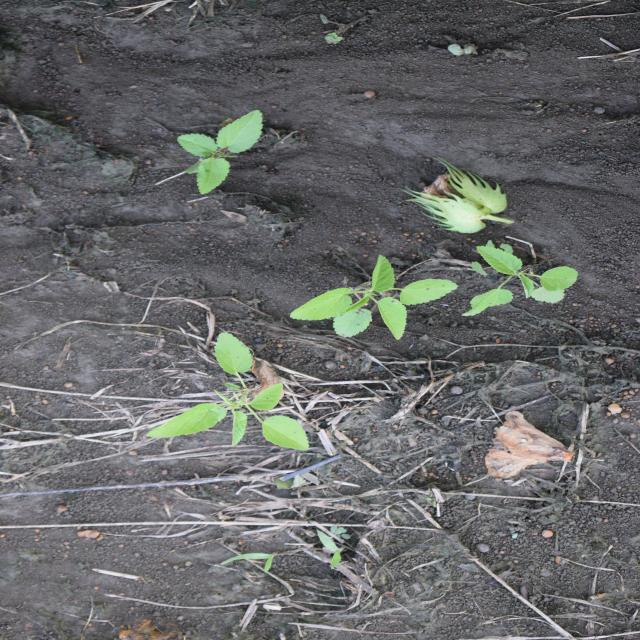PricklySida: (143, 330, 312, 452), (288, 252, 460, 342), (458, 240, 580, 318), (175, 109, 266, 196)
